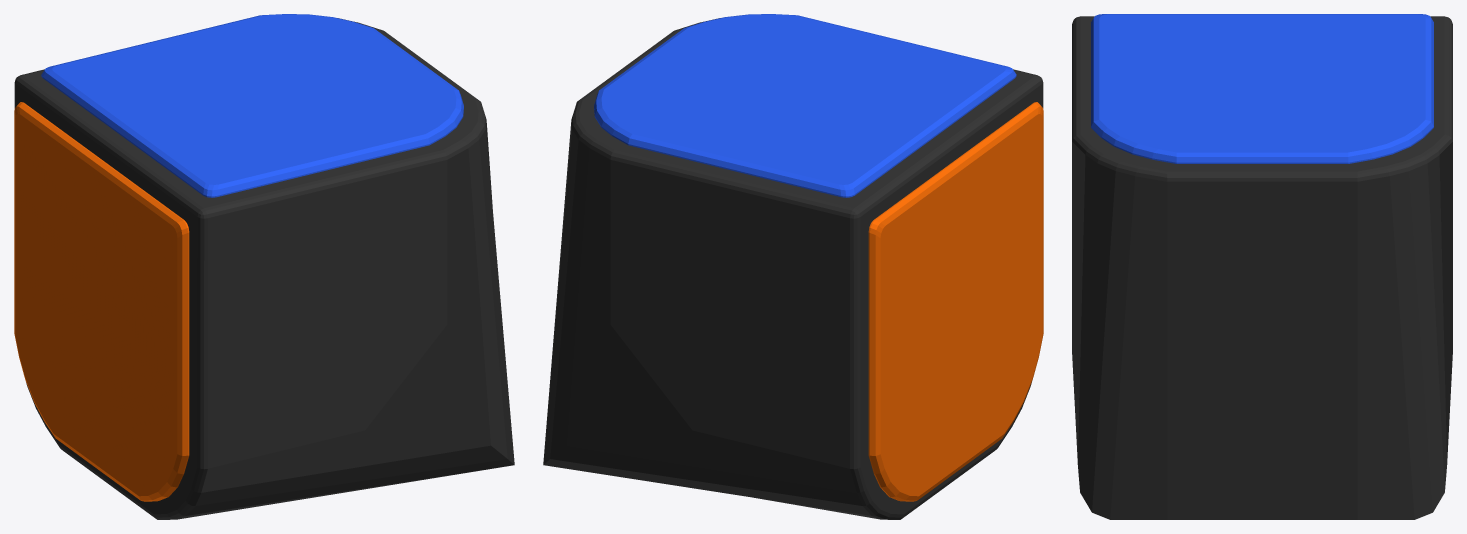
The picture shows the model from 3 angles, left to right: view 1: azimuth 30°, elevation 25°; view 2: azimuth 150°, elevation 25°; view 3: azimuth 270°, elevation 25°; orthographic projection.
Visible parts, largest first — view 1: Cube.001, Cube.055, Cube.068; view 2: Cube.001, Cube.055, Cube.068; view 3: Cube.001, Cube.068.
Part boxes in pixels (x1,y1,x2,y2): Cube.001: (14, 18, 514, 519); Cube.055: (14, 102, 189, 501); Cube.068: (41, 14, 463, 197); Cube.001: (543, 18, 1043, 519); Cube.055: (868, 102, 1043, 501); Cube.068: (594, 14, 1016, 197); Cube.001: (1072, 16, 1452, 519); Cube.068: (1091, 14, 1433, 163).
Bounding box in the file's own units: 206 × 206 × 200.
